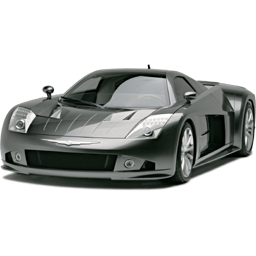car: (1, 64, 256, 189)
